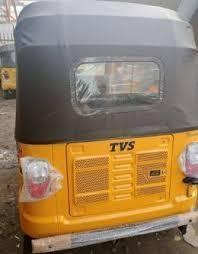keke: (9, 0, 198, 241)
